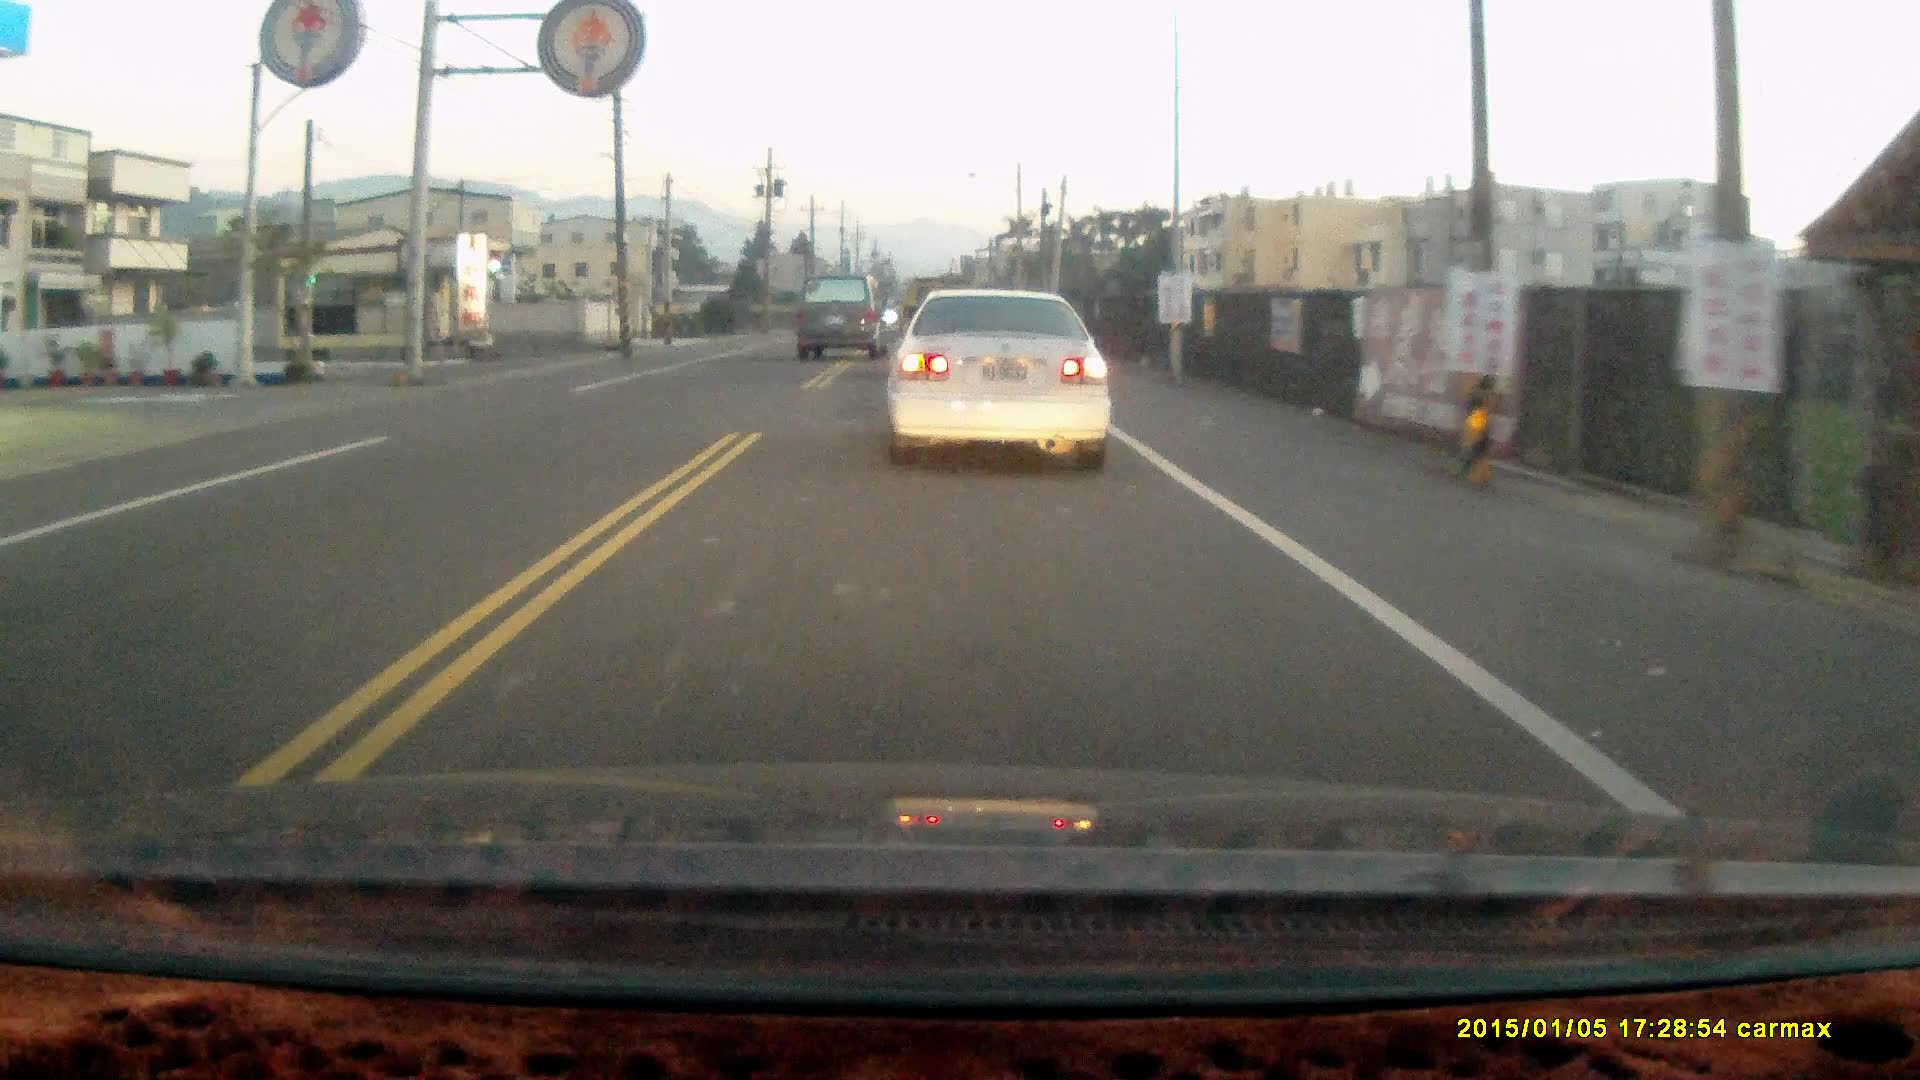vehicle: (882, 289, 1122, 479), (789, 272, 894, 365)
